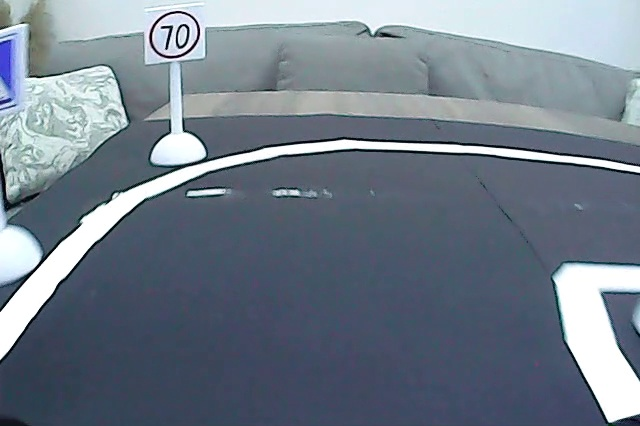speed limit 70: (147, 8, 201, 60)
